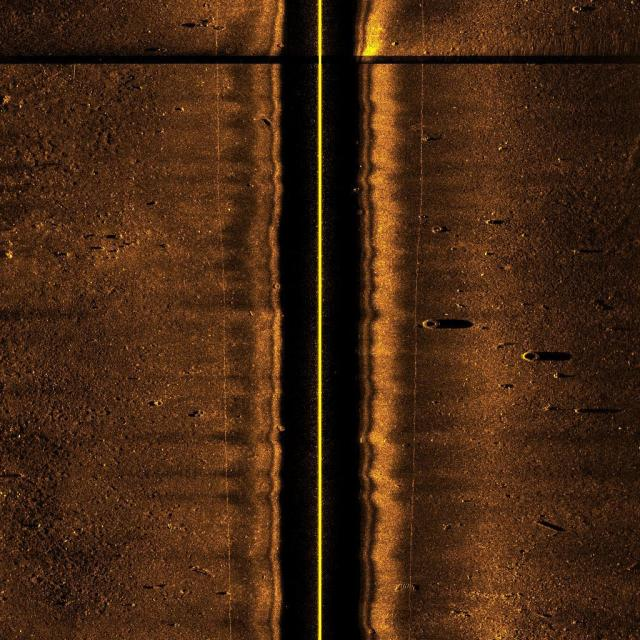mine: (531, 514, 570, 535)
other: (514, 344, 583, 371), (426, 316, 473, 332)
